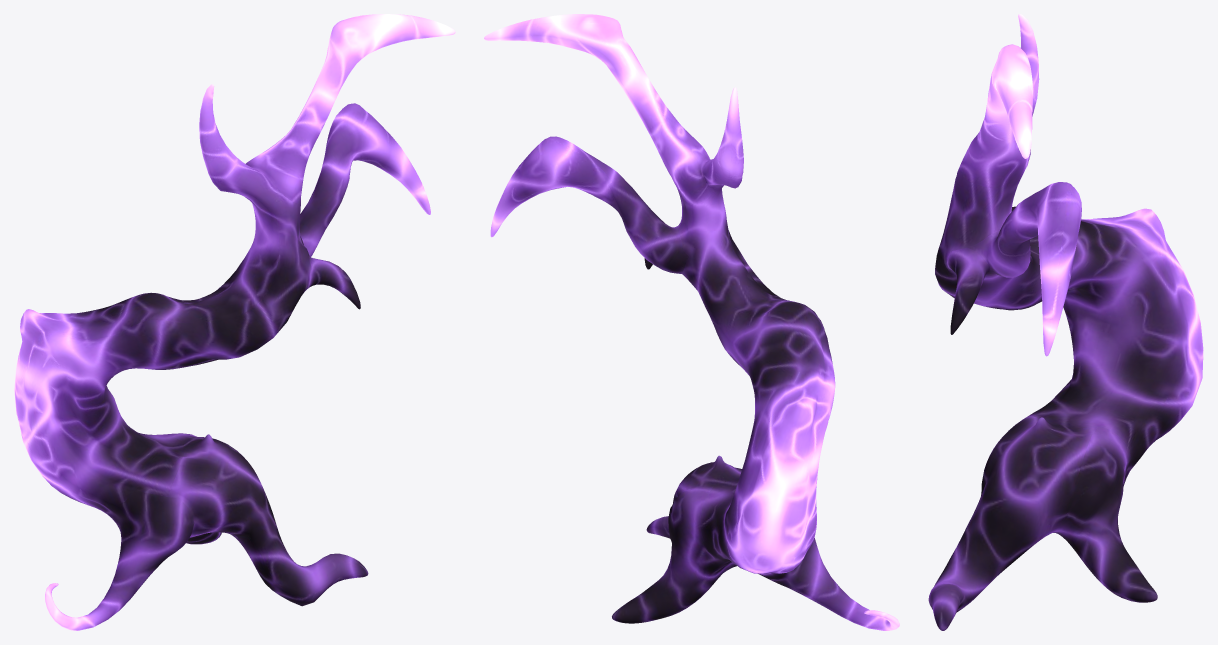
Rendered from caos_sts_clawplant_01b.glb.
3 views of the same model, side by side, from view 1: azimuth 30°, elevation 25°; view 2: azimuth 150°, elevation 25°; view 3: azimuth 270°, elevation 25° (orthographic). The views are drawn at different scales.
Parts seen in each view (by area): view 1: caos_sts_clawplant_01b; view 2: caos_sts_clawplant_01b; view 3: caos_sts_clawplant_01b.
Part boxes in pixels (x1,y1,x2,y2): caos_sts_clawplant_01b: [14, 14, 455, 630]; caos_sts_clawplant_01b: [484, 14, 899, 630]; caos_sts_clawplant_01b: [928, 14, 1203, 630].
Bounding box in the file's own units: 4.63 × 5.92 × 2.43.
Materials: 1 (1 with a texture image).
